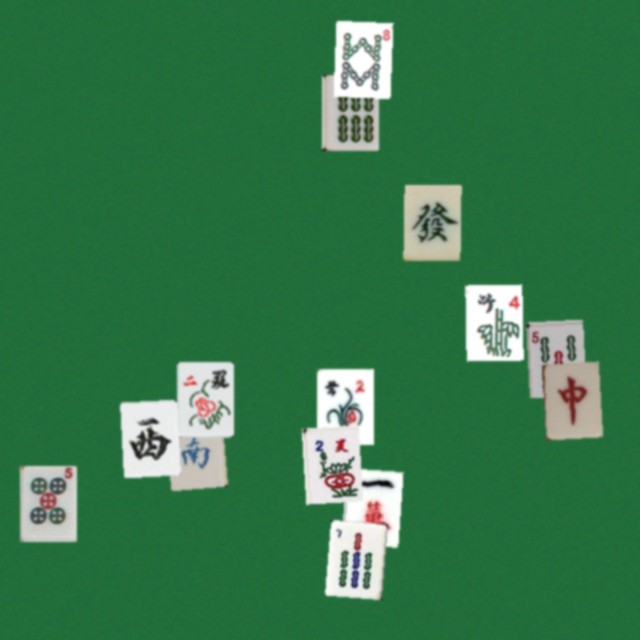tile: (316, 368, 373, 444), (164, 410, 221, 486), (403, 184, 460, 260), (341, 468, 398, 544), (176, 361, 233, 437), (19, 465, 76, 541), (465, 284, 522, 360), (321, 74, 378, 150), (324, 519, 381, 595), (301, 425, 358, 501), (526, 319, 583, 395), (541, 361, 598, 437), (119, 399, 176, 475), (333, 20, 390, 96)
